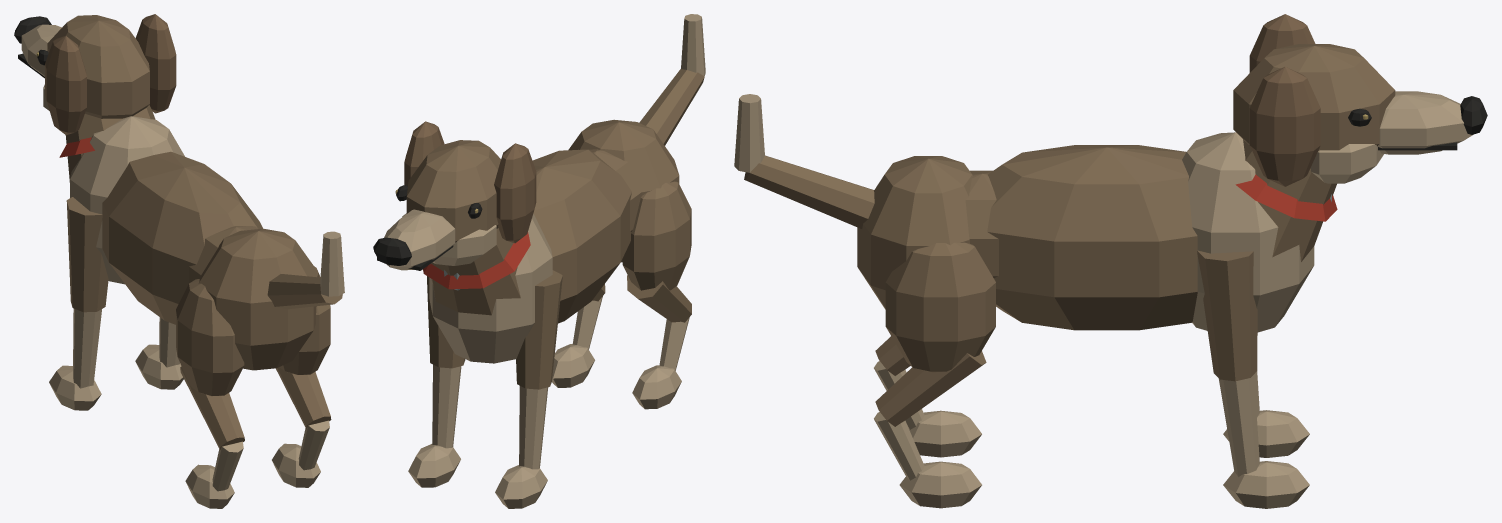
The model's file is dog.glb.
3 views of the same model, side by side, from view 1: azimuth 30°, elevation 25°; view 2: azimuth 150°, elevation 25°; view 3: azimuth 270°, elevation 25° (orthographic). The views are drawn at different scales.
Parts seen in each view (by area): view 1: dog_visual; view 2: dog_visual; view 3: dog_visual.
Part boxes in pixels (bbox=[...]): dog_visual: bbox=[14, 14, 344, 508]; dog_visual: bbox=[373, 14, 705, 508]; dog_visual: bbox=[734, 14, 1487, 508].
Bounding box in the file's own units: 0.3695 × 0.94 × 1.45.
